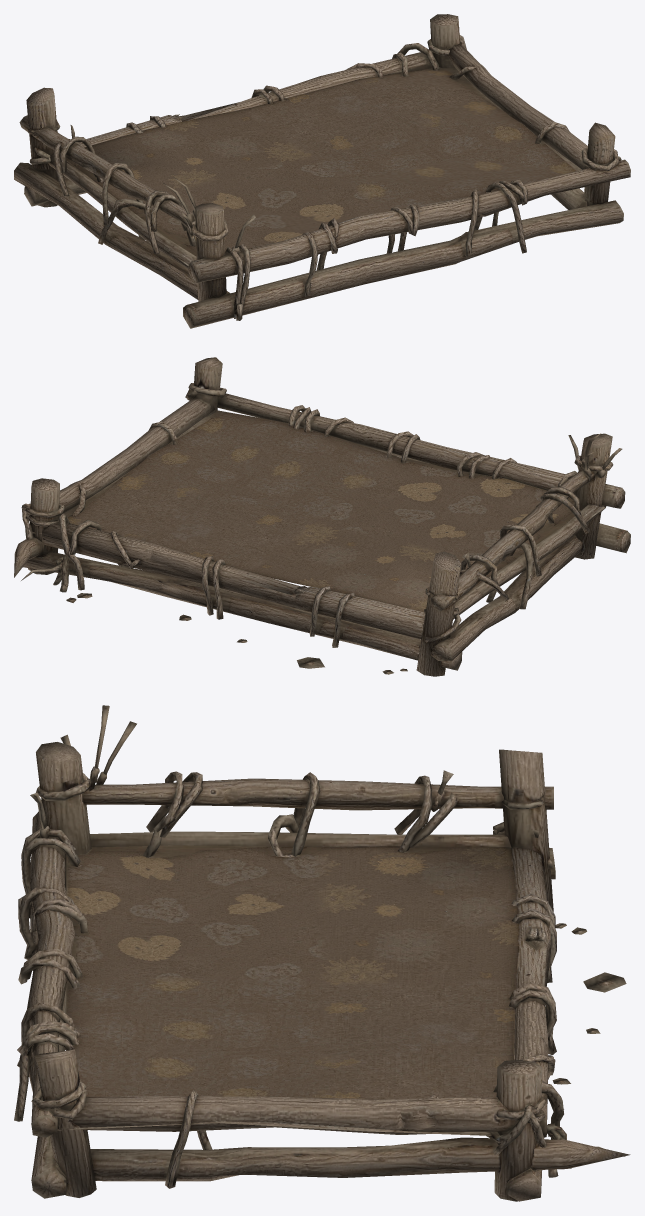
The model's file is tripo_convert_ac2f4e52-1286-45cf-894c-db12f73a8ae5.fbx.
3 views of the same model, one above another, from view 1: azimuth 30°, elevation 25°; view 2: azimuth 150°, elevation 25°; view 3: azimuth 270°, elevation 25° (orthographic). The views are drawn at different scales.
Parts seen in each view (by area): view 1: tripo_node_ac2f4e52; view 2: tripo_node_ac2f4e52; view 3: tripo_node_ac2f4e52.
Part boxes in pixels (x1=…): tripo_node_ac2f4e52: x1=14, y1=14, x2=630, y2=328; tripo_node_ac2f4e52: x1=14, y1=357, x2=630, y2=676; tripo_node_ac2f4e52: x1=14, y1=705, x2=630, y2=1201.
Size of the model in its own units: 0.998 by 0.2949 by 0.8301.
Materials: 1 (1 with a texture image).
